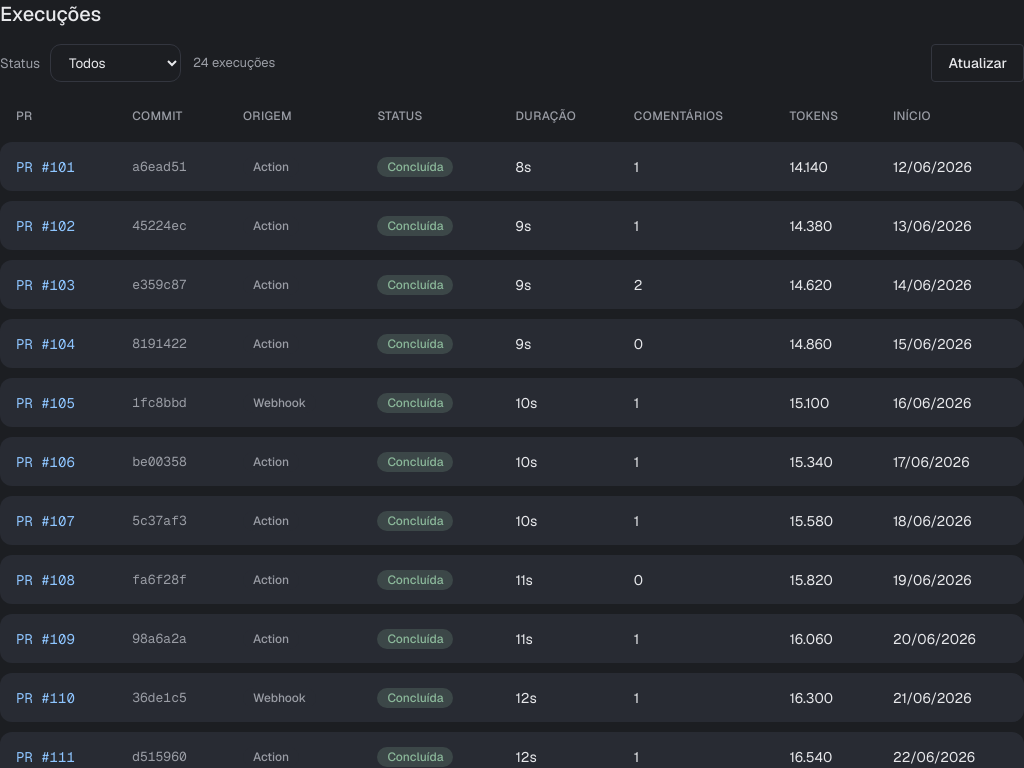
Test: RunsPage › re-fetches (not client-side filters) when the status changes
This screenshot has width=1024, height=768.
Select "Na fila" in the dropdown: (116, 63) [50,44,181,82]
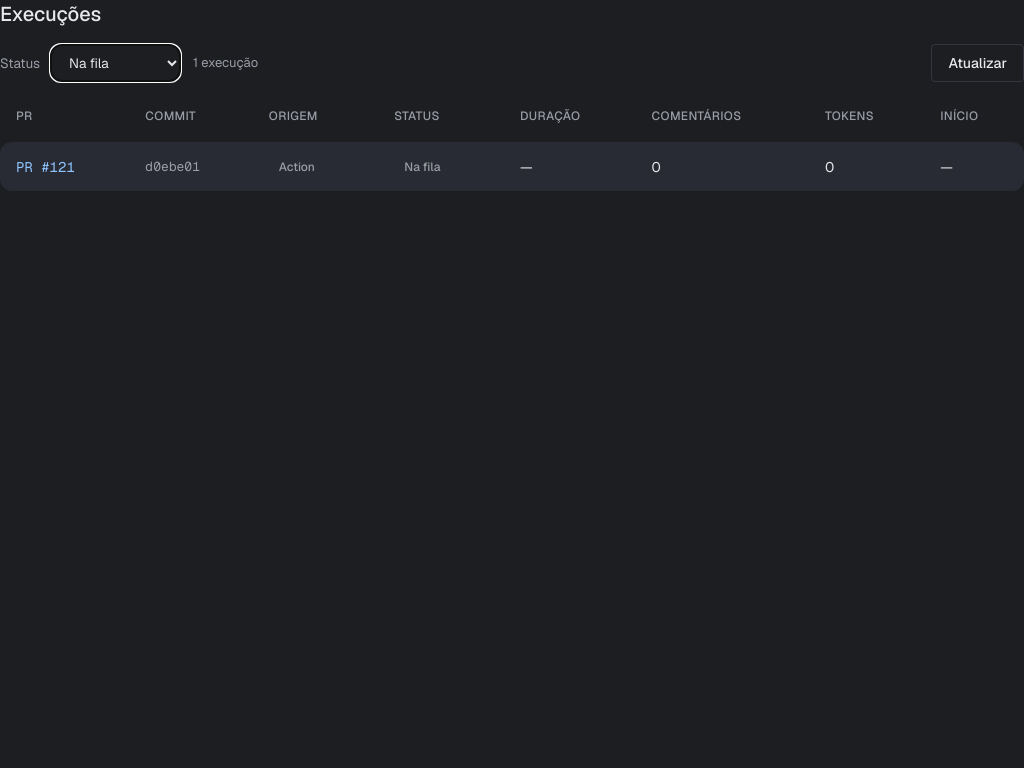
Check: the text "1 execução" is shown, box [193,53,258,73]
